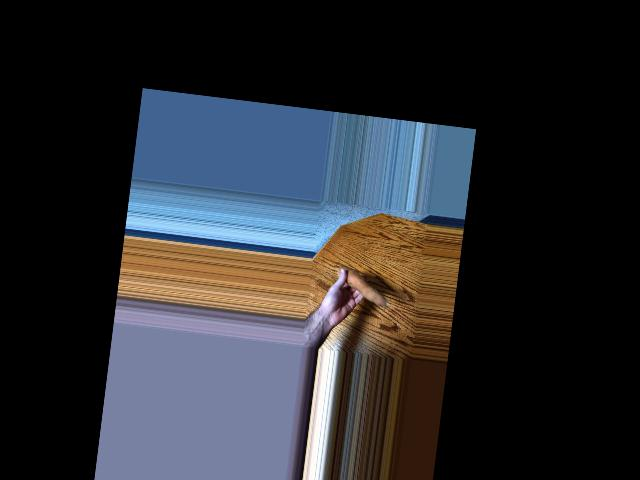sweet_potato: (332, 265, 390, 307)
